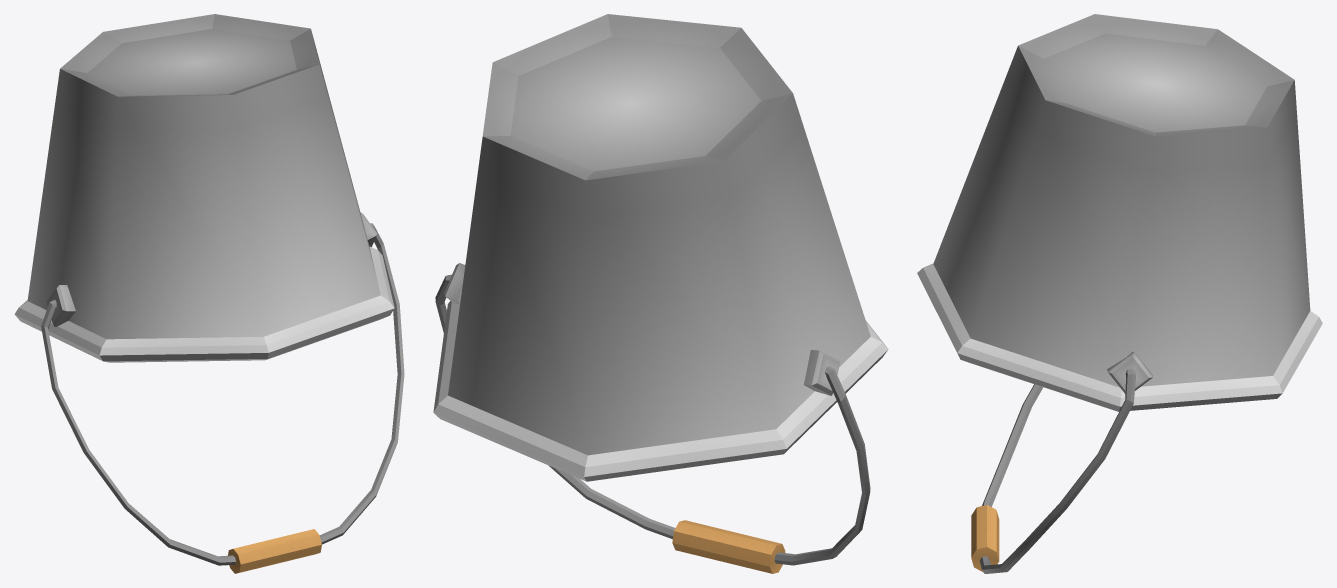
File: hat_bucket.fbx
The picture shows the model from 3 angles, left to right: view 1: azimuth 30°, elevation 25°; view 2: azimuth 150°, elevation 25°; view 3: azimuth 270°, elevation 25°; orthographic projection. The views are drawn at different scales.
Visible parts, largest first — view 1: Bucket_OBJ, Handle_OBJ, Grip_OBJ; view 2: Bucket_OBJ, Handle_OBJ, Grip_OBJ; view 3: Bucket_OBJ, Handle_OBJ, Grip_OBJ.
Boxes of the visible parts, bbox=[...] form: Bucket_OBJ: bbox=[14, 14, 394, 362]; Handle_OBJ: bbox=[41, 223, 404, 565]; Grip_OBJ: bbox=[228, 529, 321, 573]; Bucket_OBJ: bbox=[433, 14, 888, 481]; Handle_OBJ: bbox=[435, 274, 870, 565]; Grip_OBJ: bbox=[672, 520, 785, 573]; Bucket_OBJ: bbox=[917, 14, 1322, 411]; Handle_OBJ: bbox=[980, 368, 1135, 573]; Grip_OBJ: bbox=[971, 505, 999, 571].
Bounding box in the file's own units: 2.82 × 3.59 × 2.68.
